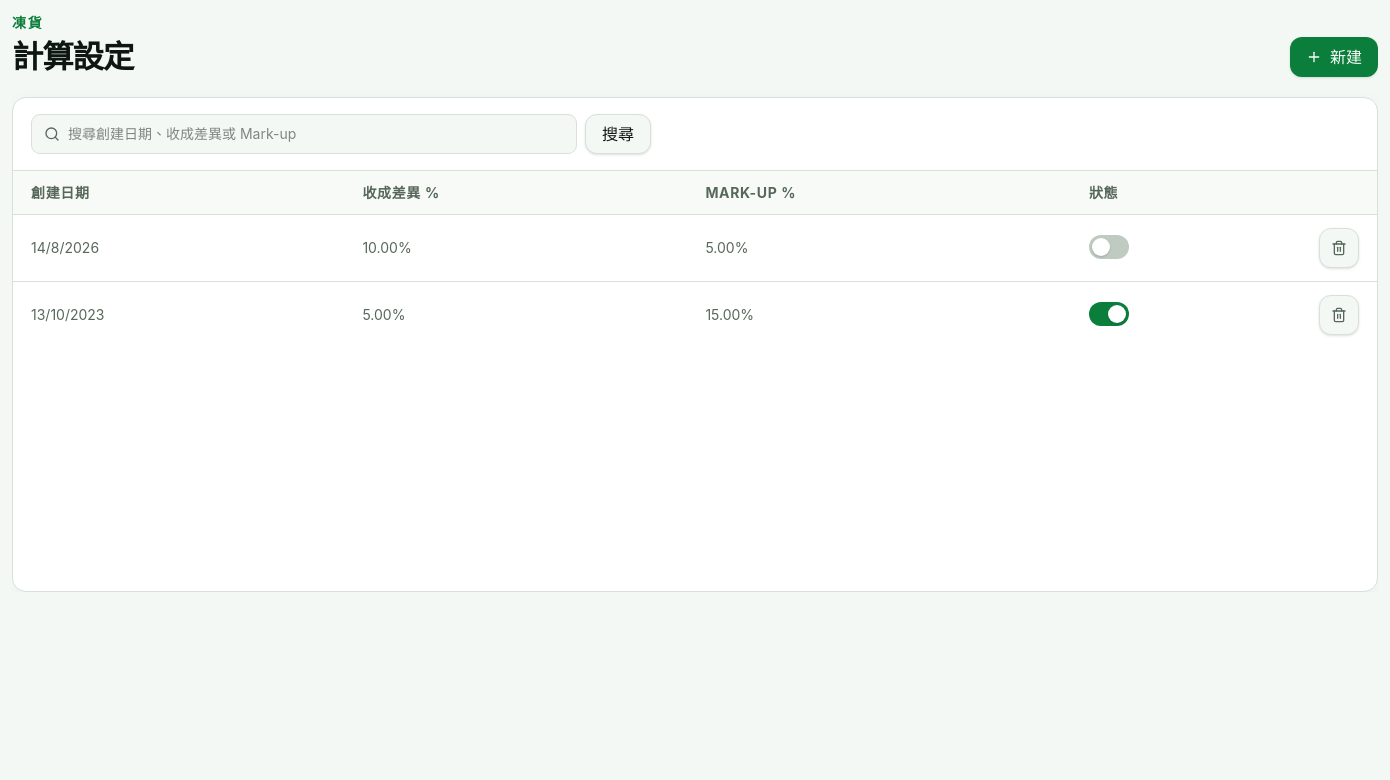
Calculation settings page › filters settings from the search bar
Expected: the text "10.00%" is shown, [344, 214, 687, 281]
Step 1. Type "15" into the search field with placeholder "搜尋創建日期、收成差異或 Mark-up" → (316, 134), box [68, 115, 564, 153]
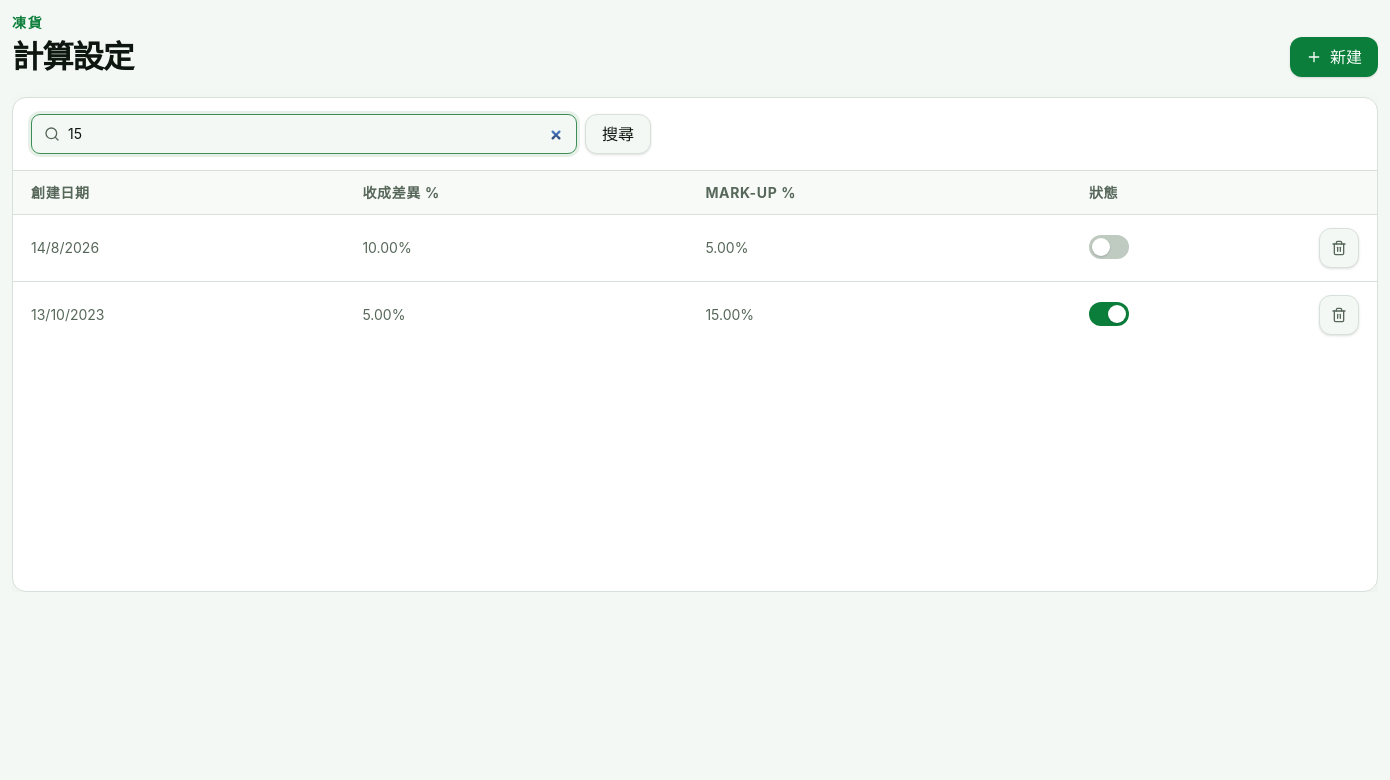
Step 2. Click the button "搜尋" → (618, 134), box [585, 114, 651, 154]
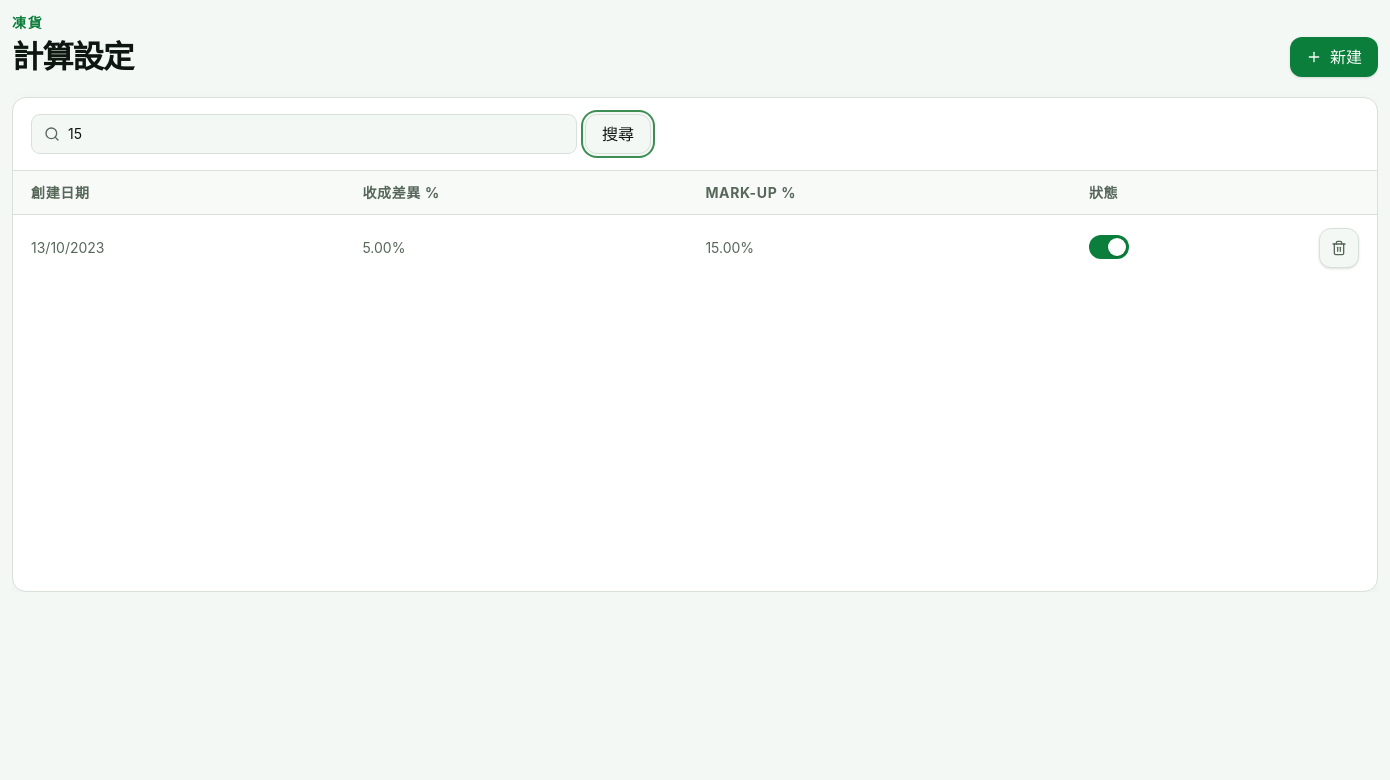
Expected: the text "15.00%" is shown, [687, 214, 1071, 281]
Now the text "10.00%" is gone
